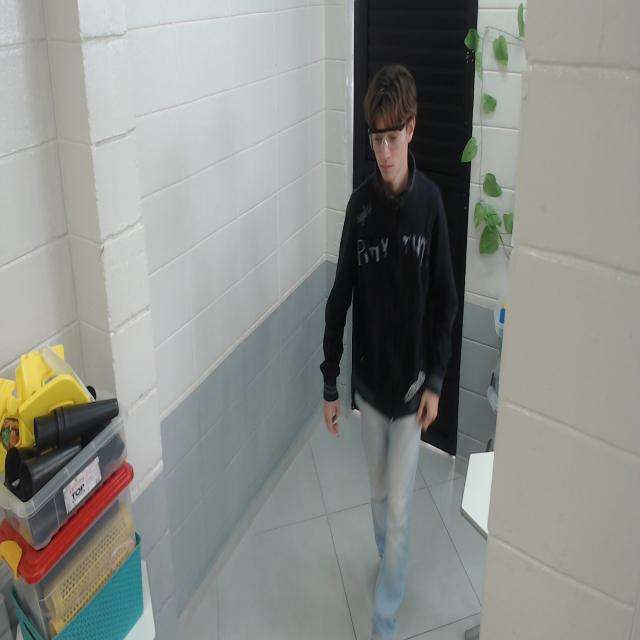oculos-epi: (368, 123, 407, 153)
